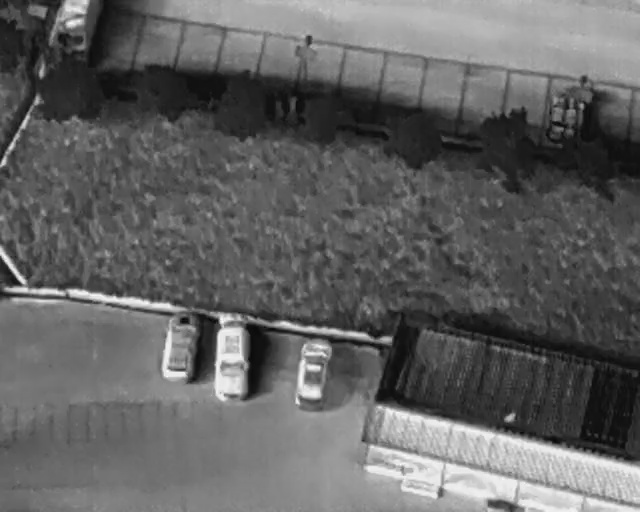Car: (159, 311, 203, 385), (293, 338, 336, 411), (213, 321, 251, 402)
OtherVehicle: (50, 0, 99, 61)
